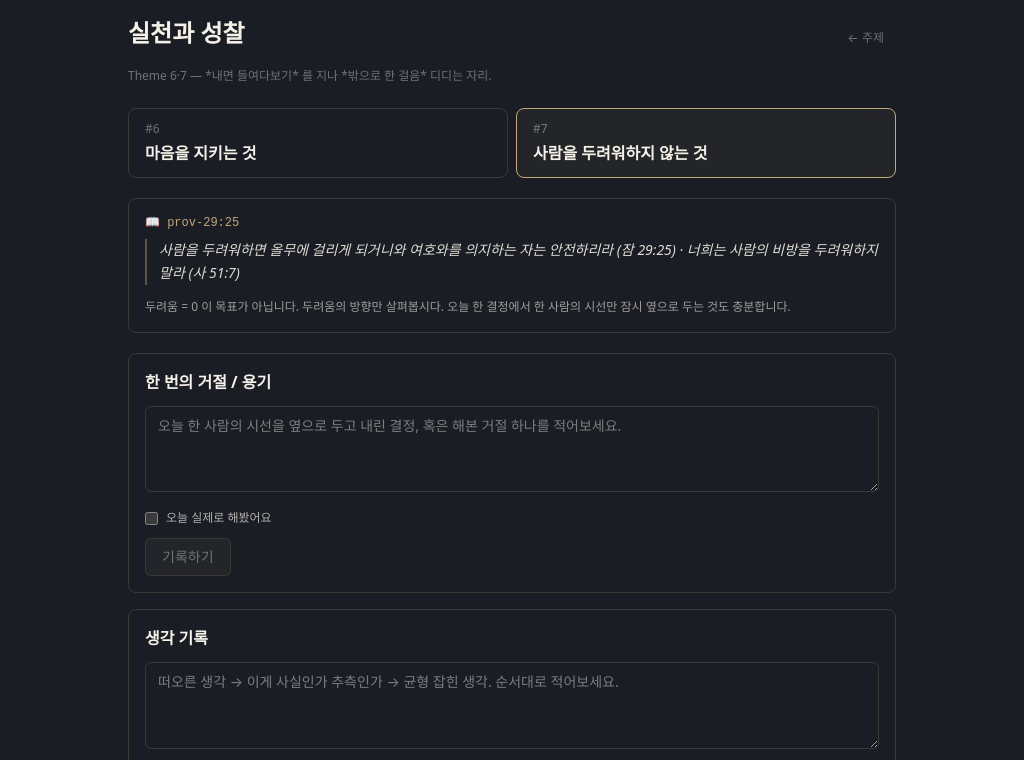
Test: /topics/practice › R1 — crisis.routed 응답이면 위기 카드와 24시간 상담 번호를 띄운다
This screenshot has width=1024, height=760.
Type "다 끝내고 싶다" into the text box with placeholder "떠오른 생각 → 이게 사실인가 추측인가 → 균형 잡힌 생각. 순서대로 적어보세요.". click: (512, 705)
box: [145, 662, 879, 749]
(page scrolled)
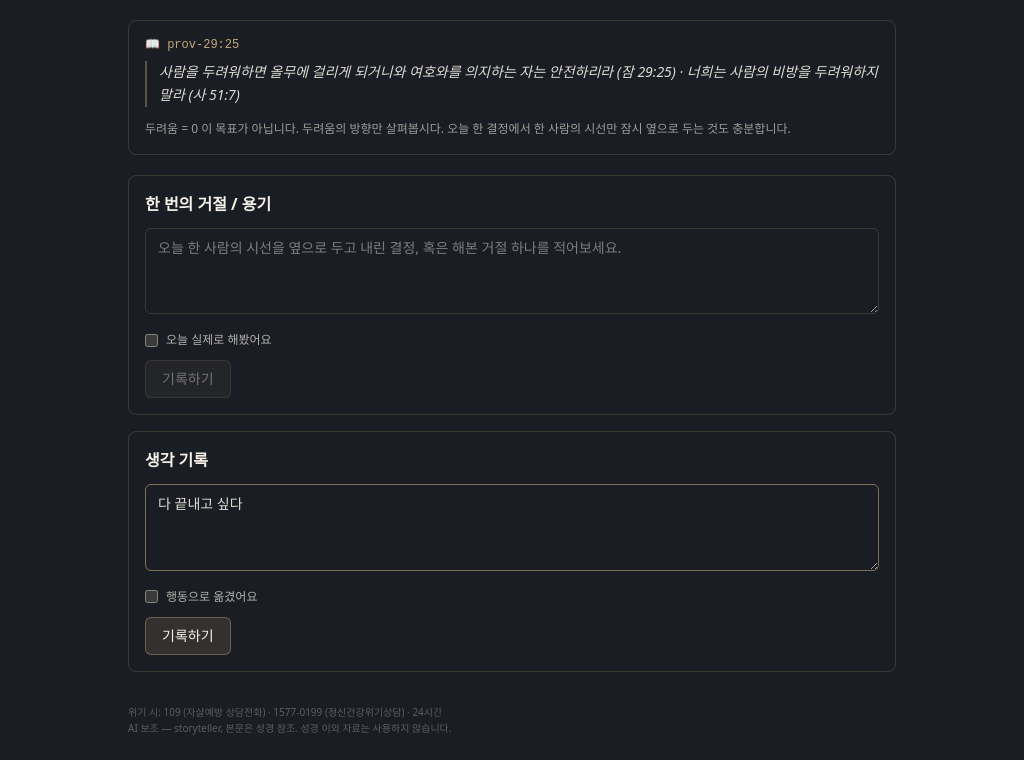
Click the button "기록하기" below "행동으로 옮겼어요". click: click(188, 636)
box: [145, 616, 230, 654]
(page scrolled)
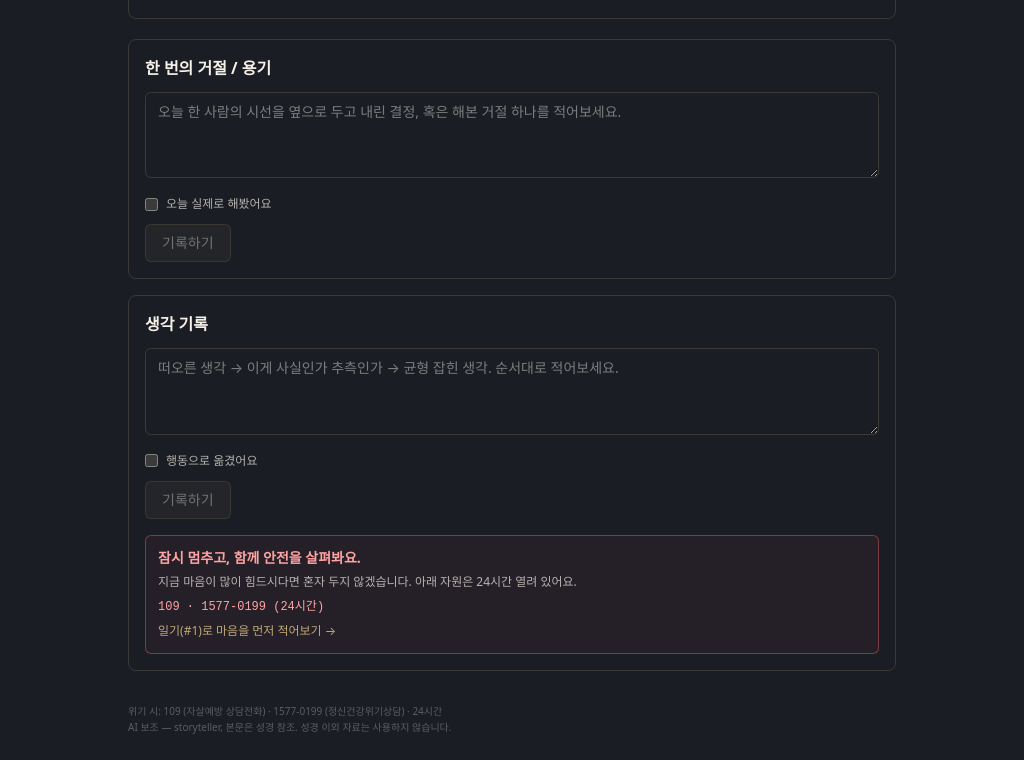
expect the text "잠시 멈추고, 함께 안전을 살펴봐요." is shown: met, box [158, 548, 361, 566]
expect the text "109 · 1577-0199 (24시간)" is shown: met, box [158, 600, 324, 614]
